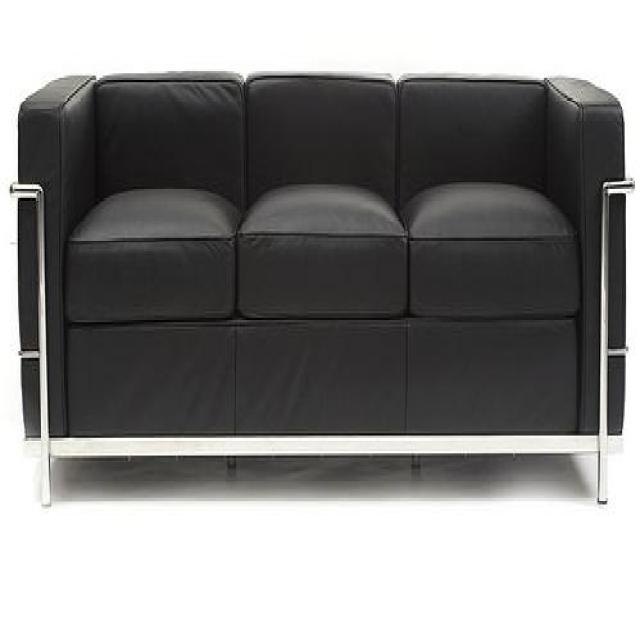sofa: (10, 66, 634, 506)
